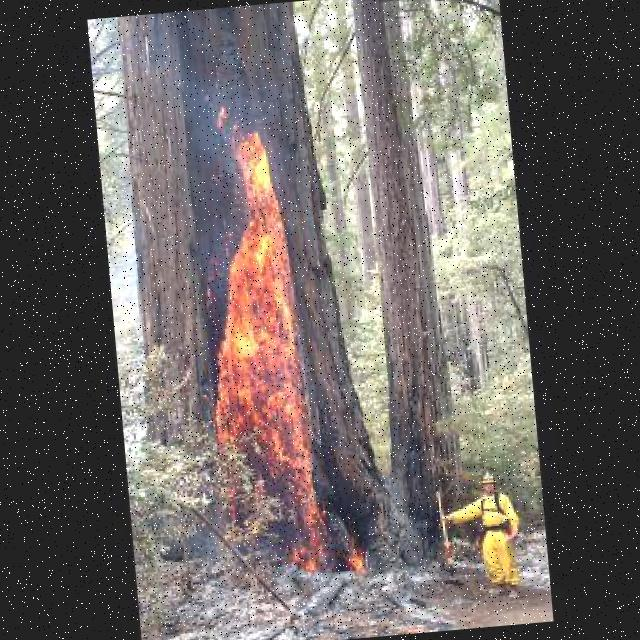Fire: (194, 128, 361, 587)
